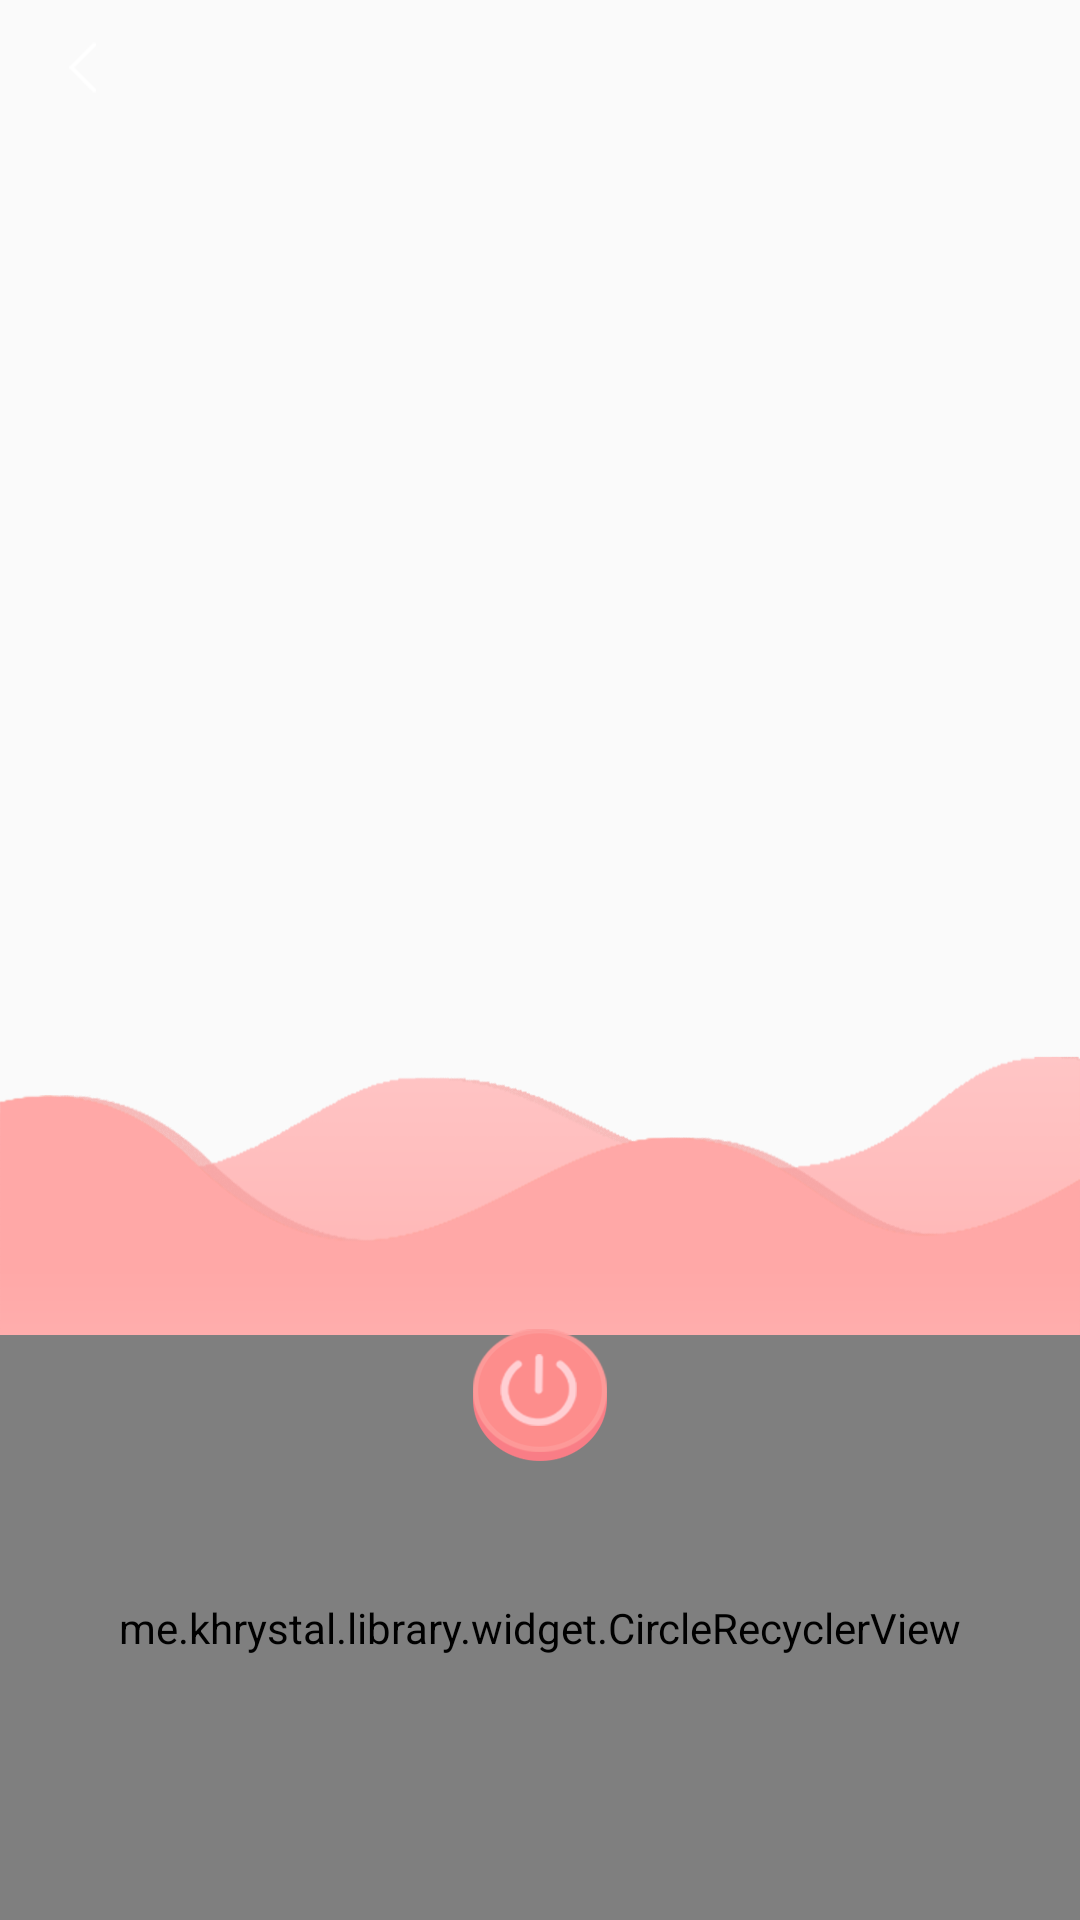

Icons on this 1080px×1920px Android screen, each with the point to tap as (x,y):
shaoshui guan: (540,1390)
